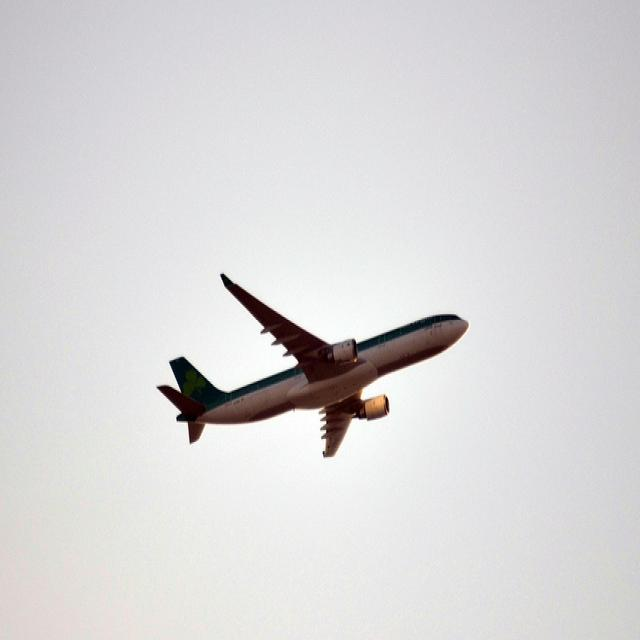airplane: (154, 270, 470, 459)
